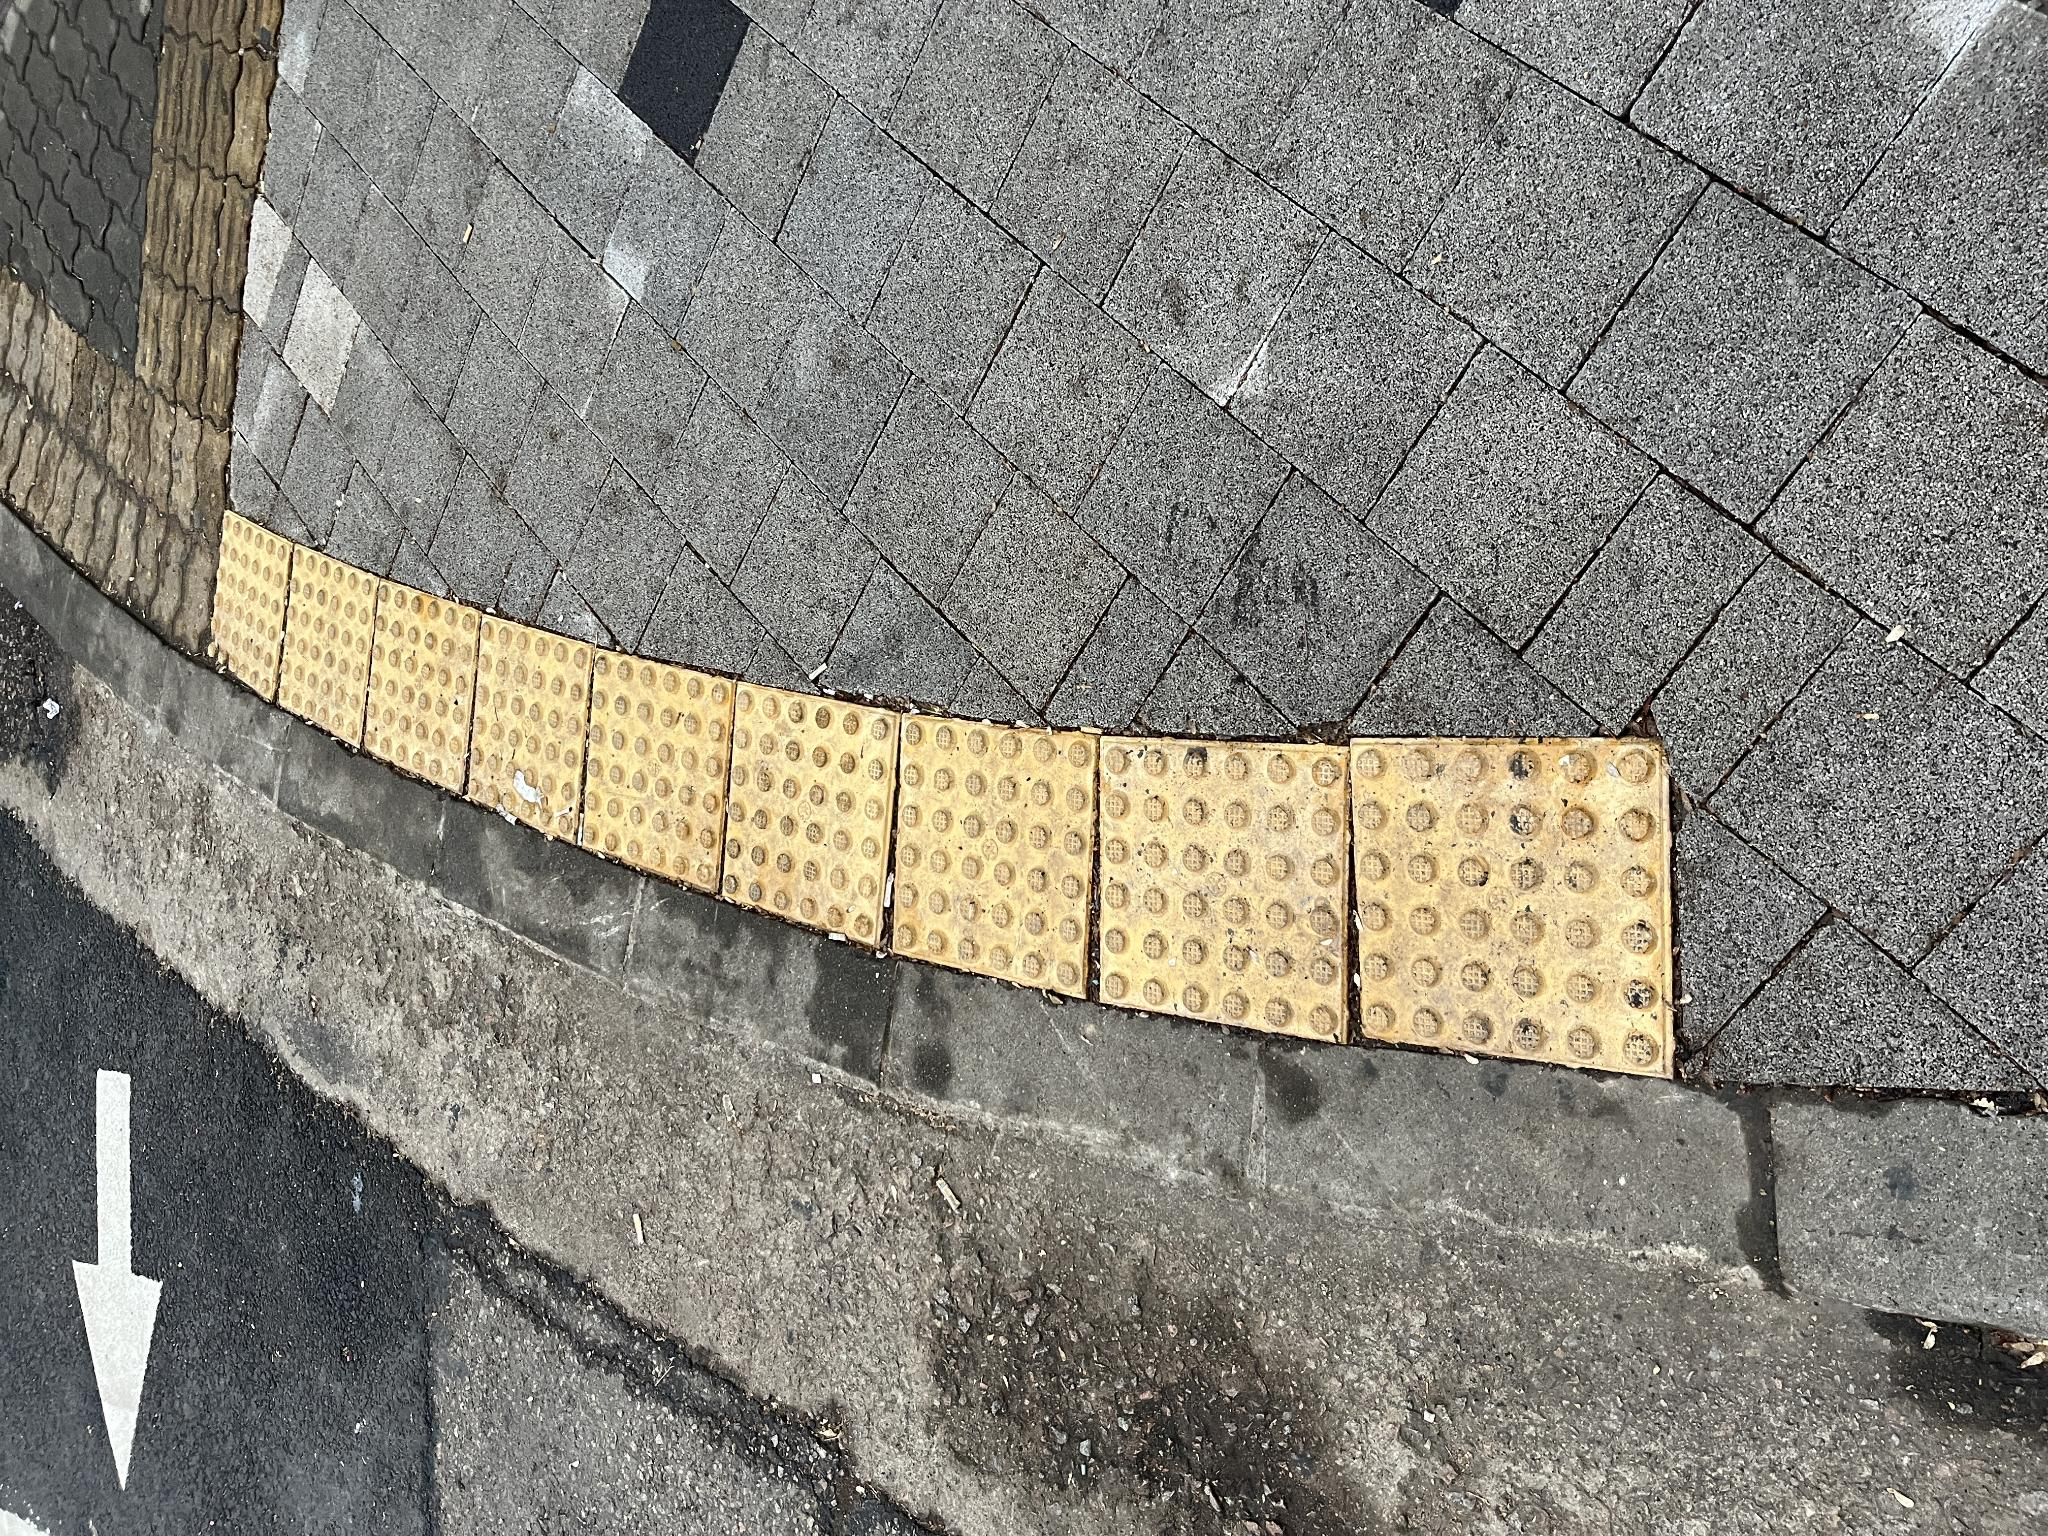Stop block broken: (695, 470, 919, 591)
Stop block normal: (493, 1104, 798, 1342), (481, 1354, 797, 1536), (540, 894, 819, 1094), (592, 723, 851, 895), (647, 584, 884, 734), (743, 366, 955, 478)
